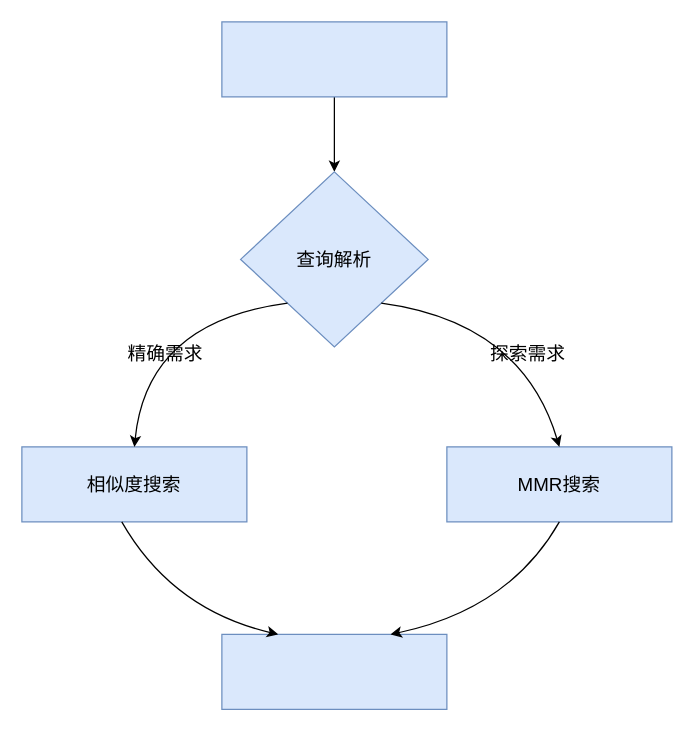
Image size: 694x731. Some labels were removed from this diagram. Each missing label, with the centre of its shape:
用户请求: (334,59)
结果排序: (334,671)
